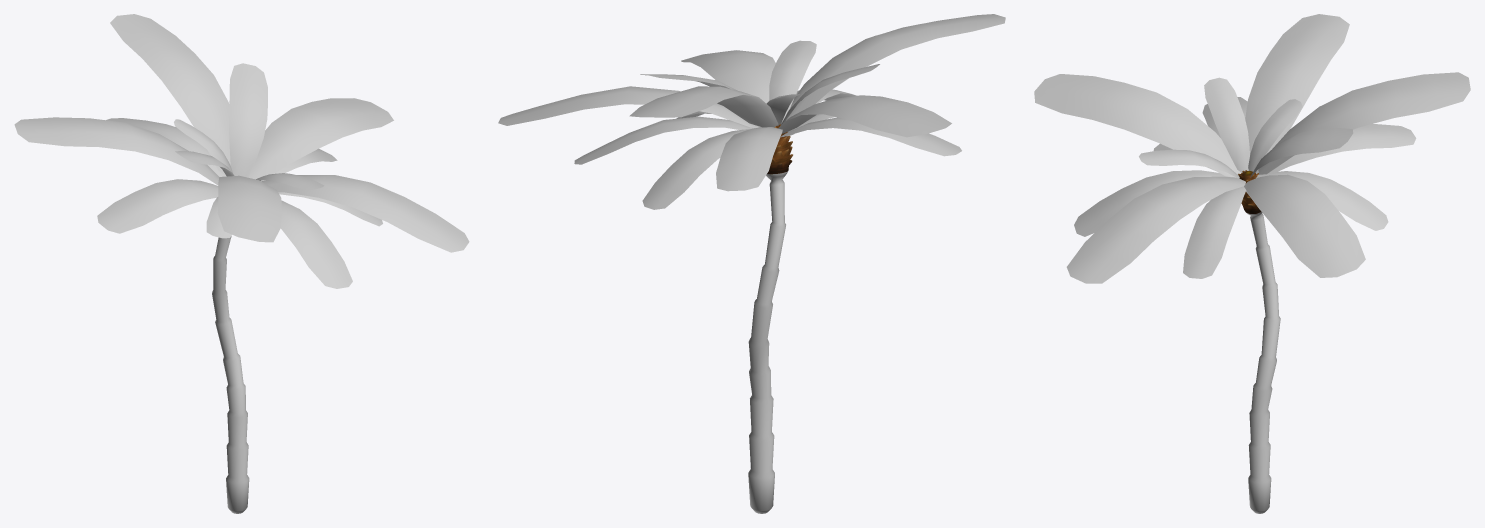
File: Palm03.fbx
The picture shows the model from 3 angles, left to right: view 1: azimuth 30°, elevation 25°; view 2: azimuth 150°, elevation 25°; view 3: azimuth 270°, elevation 25°; orthographic projection. The views are drawn at different scales.
Parts seen in each view (by area): view 1: Palm02; view 2: Palm02; view 3: Palm02.
Boxes of the visible parts, left/top/right/bottom form: Palm02: left=14, top=14, right=469, bottom=513; Palm02: left=498, top=14, right=1005, bottom=513; Palm02: left=1034, top=14, right=1470, bottom=513.
Size of the model in its own units: 595 by 637 by 591.
